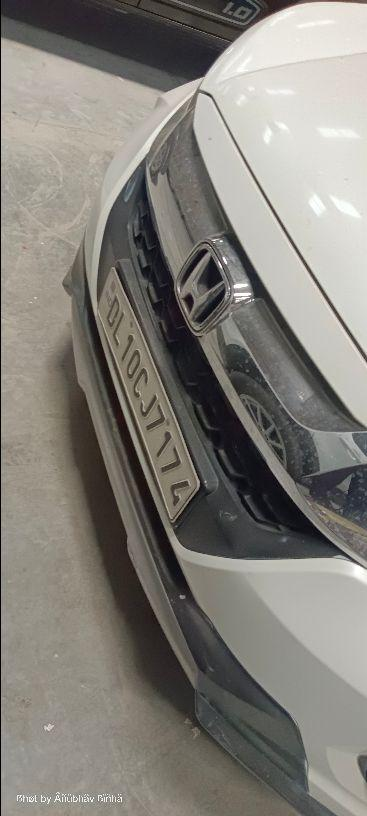license_plate: (64, 1, 365, 813), (94, 264, 202, 526)
